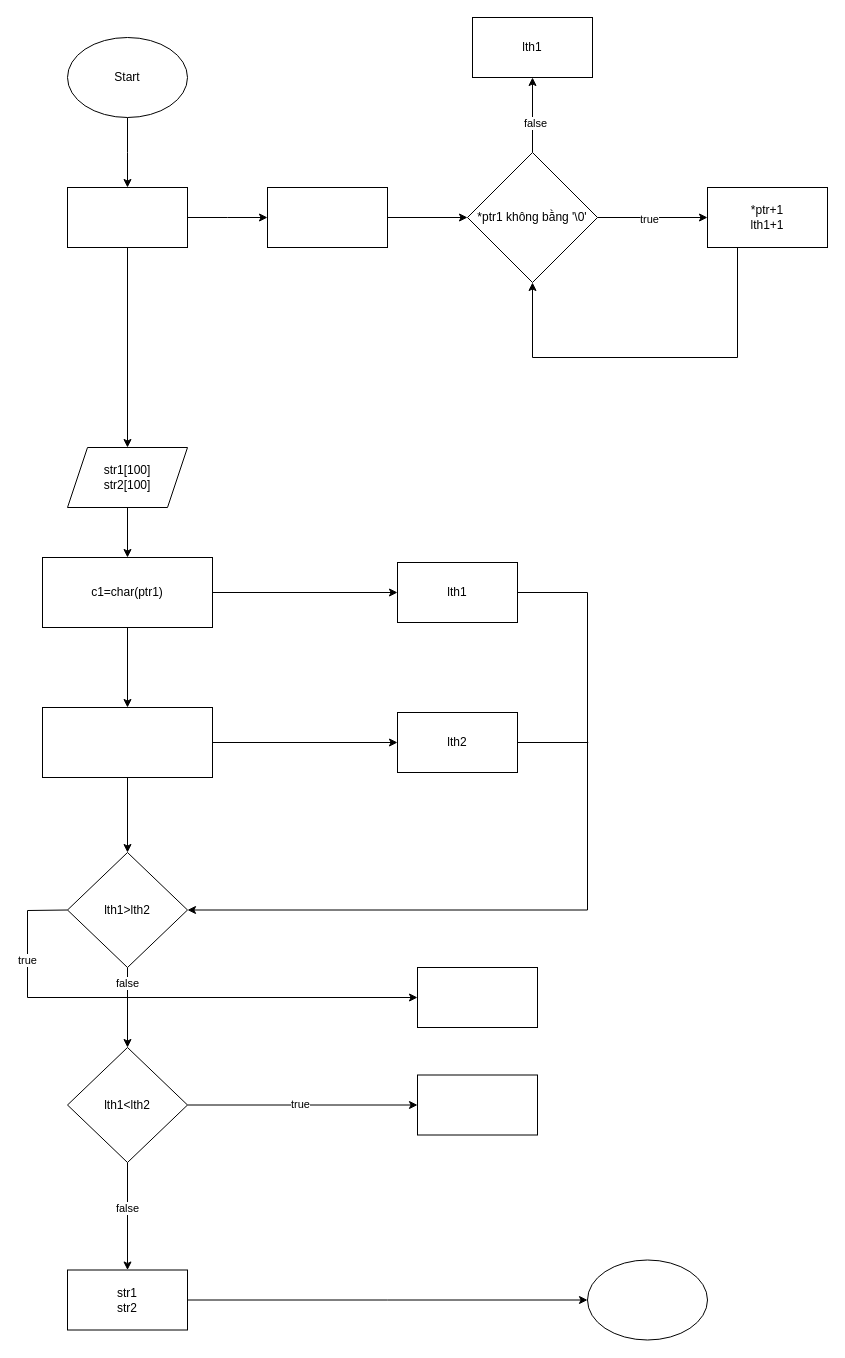
The diagram is 845 pixels wide and 1358 high, and some of its shapes have lost their labels. The centre of each missing label's shape, as x and y in pixels:
c2=char(ptr2): point 127,742
char(char *ptr1 ,*ptr2): point 127,217
End: point 647,1299
lth1=0 *ptr= str: point 327,217
str1: point 477,997
str2: point 477,1104
